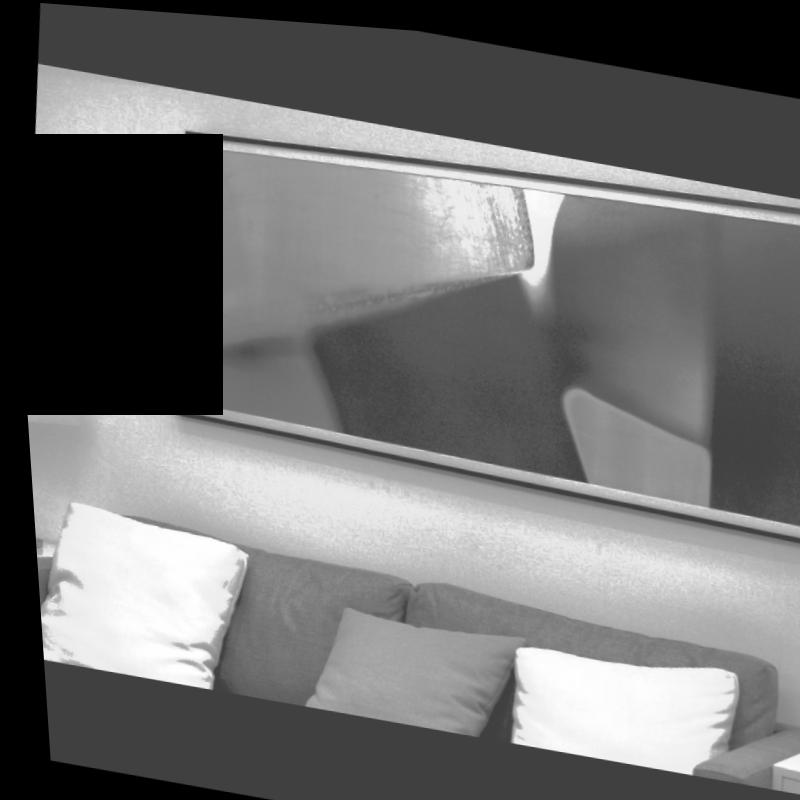pillow: (26, 491, 250, 690), (479, 628, 748, 770), (287, 593, 524, 737)
